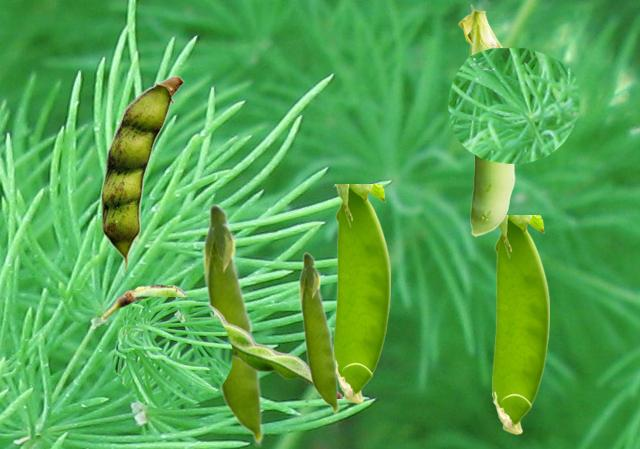pea: (101, 284, 342, 397), (101, 75, 183, 270), (202, 202, 264, 446), (458, 4, 514, 235), (492, 215, 548, 433), (333, 184, 389, 402), (298, 251, 339, 415)
